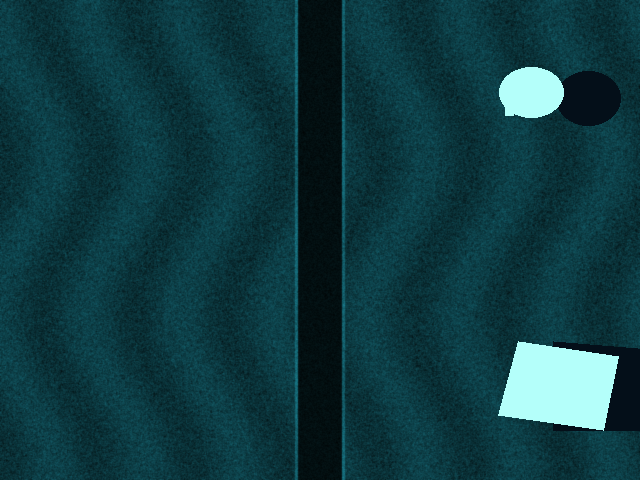Plastic Debris: (499, 67, 563, 117)
Unknown Anomaly: (498, 341, 618, 430)
